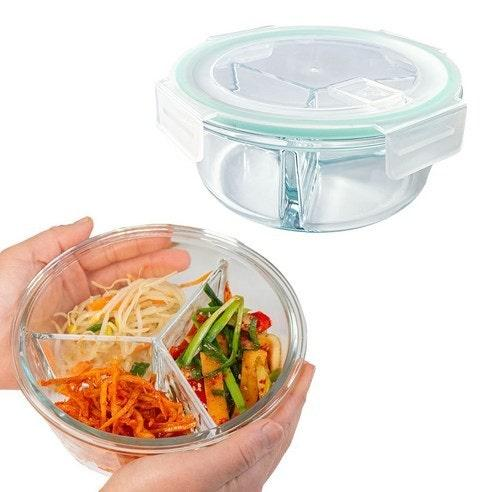Lunch Box: (12, 225, 305, 472)
